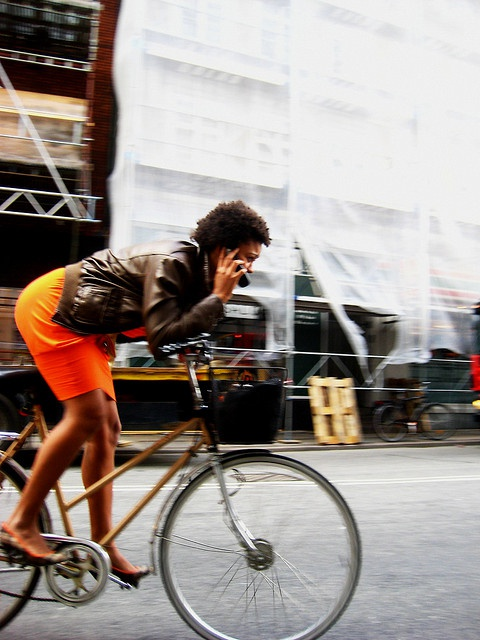non-vehicle: (0, 341, 360, 631), (372, 380, 458, 441)
